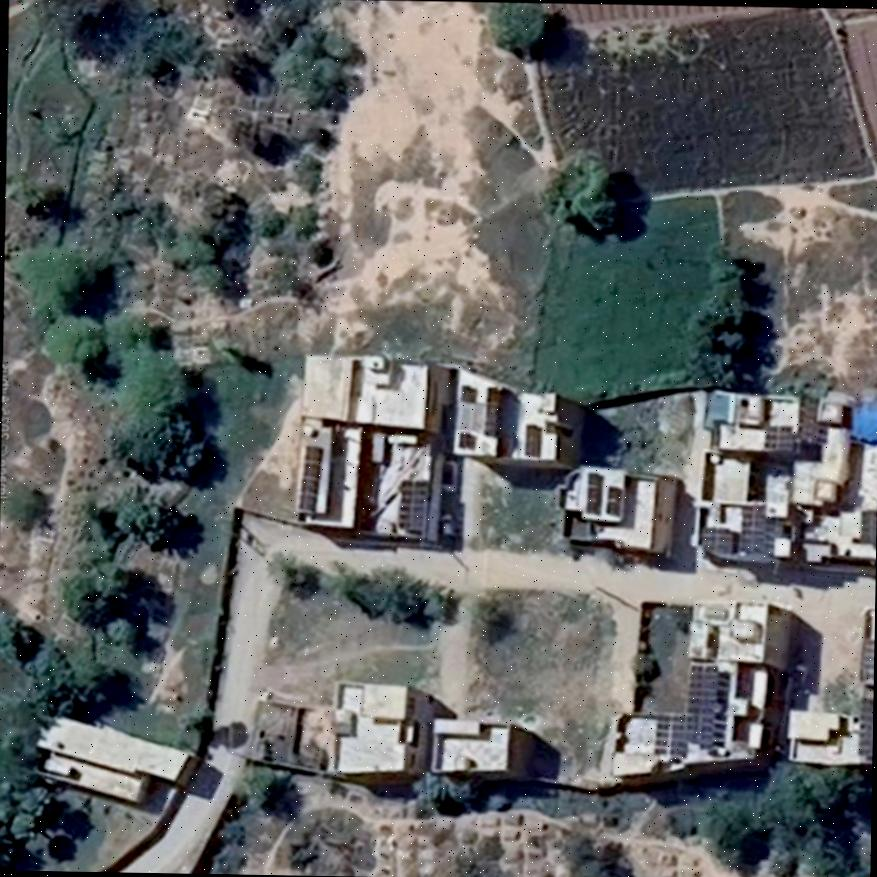Solarpanel: (687, 665, 717, 750), (297, 445, 323, 509), (739, 504, 765, 559), (398, 478, 426, 527), (656, 711, 686, 755), (854, 695, 873, 753), (765, 421, 792, 447), (701, 527, 730, 551)
